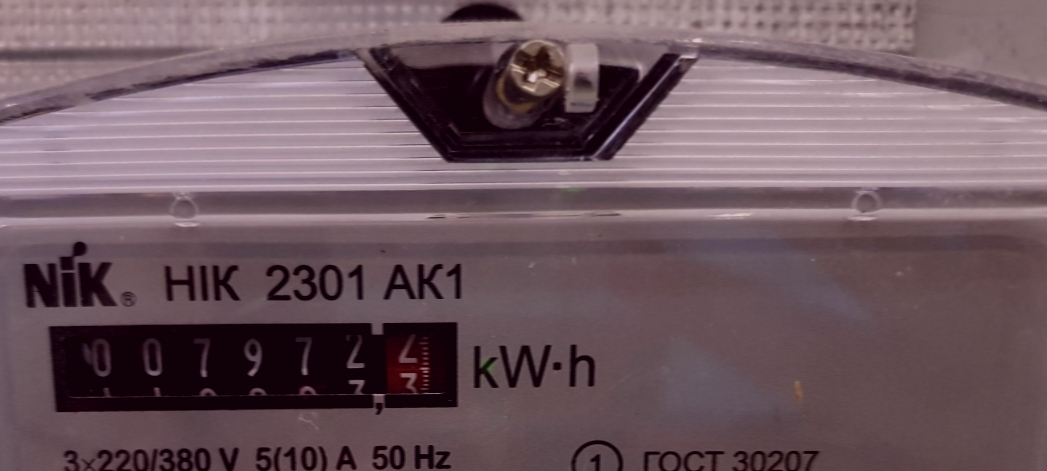0: (88, 334, 114, 375), (139, 333, 164, 375)
2: (343, 330, 366, 368), (394, 330, 417, 364)
3: (396, 368, 418, 393)
7: (290, 331, 316, 377), (189, 333, 214, 377)
9: (240, 333, 262, 376)
screen: (32, 308, 474, 424)
